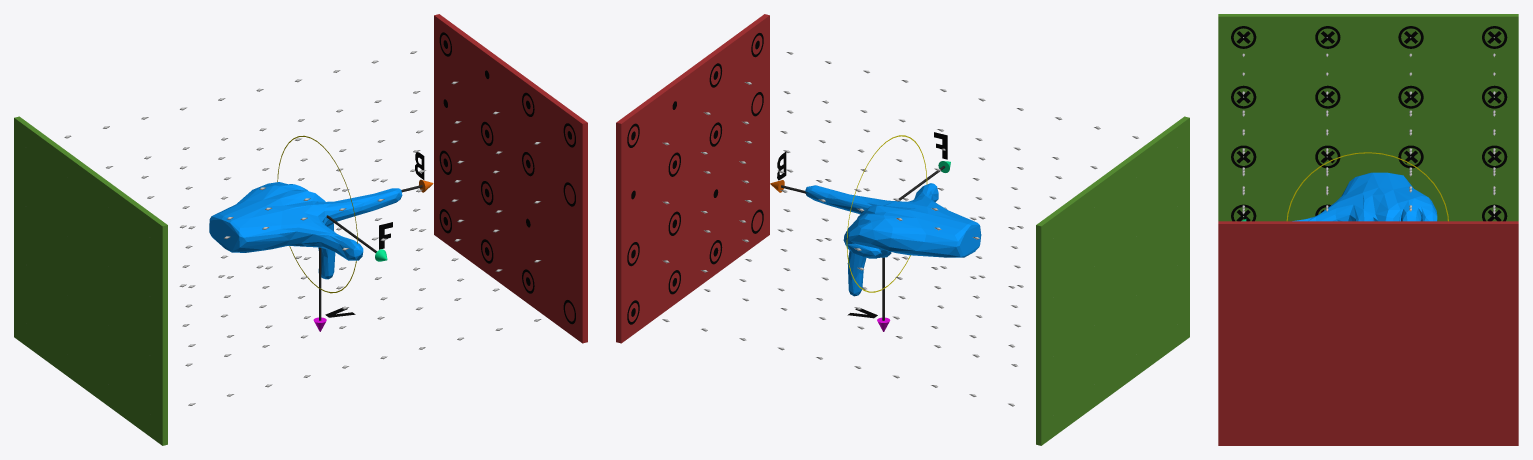
Rendered from bkp_modelo.glb.
3 renders of one model, left to right at view 1: azimuth 30°, elevation 25°; view 2: azimuth 150°, elevation 25°; view 3: azimuth 270°, elevation 25°, orthographic.
Parts seen in each view (by area): view 1: magnet, hand, field, aresta; view 2: magnet, hand, field, aresta; view 3: magnet, hand, field, trajetoria.
Boxes of the visible parts, x1,y1,x2,y2 form: magnet: (14,14,587,445); hand: (209,182,402,279); field: (64,51,541,405); aresta: (319,152,424,320); magnet: (616,14,1189,445); hand: (805,183,981,296); field: (662,52,1138,406); aresta: (777,132,947,320); magnet: (1218,14,1518,445); hand: (1292,172,1437,221); field: (1242,37,1495,216); trajetoria: (1286,152,1448,221).
Bounding box in the file's own units: 4.6 × 2.27 × 2.78.
